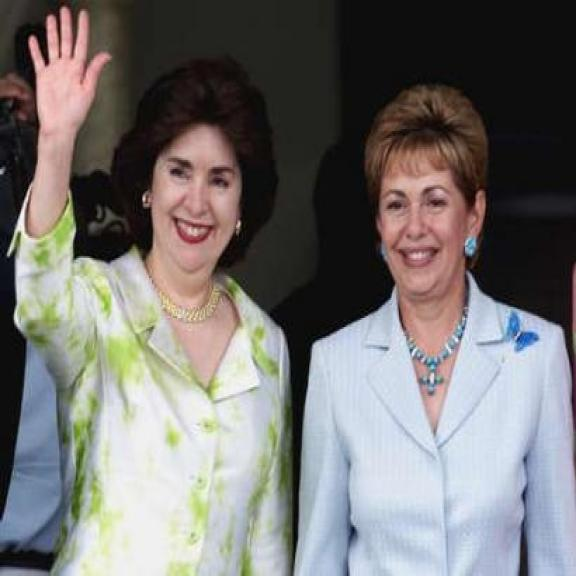face: (146, 121, 254, 283), (379, 161, 495, 298)
